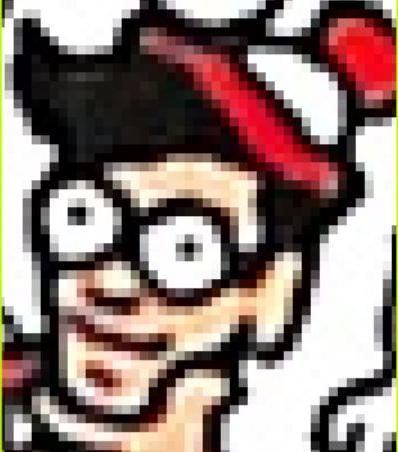waldos: (12, 4, 394, 449)
